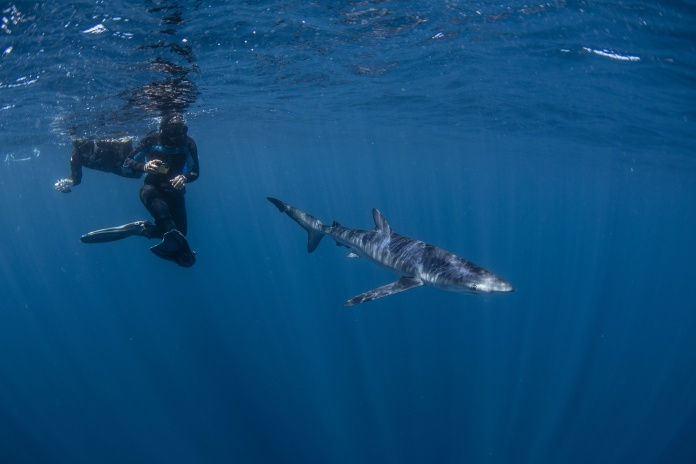Azul: (261, 188, 522, 322)
